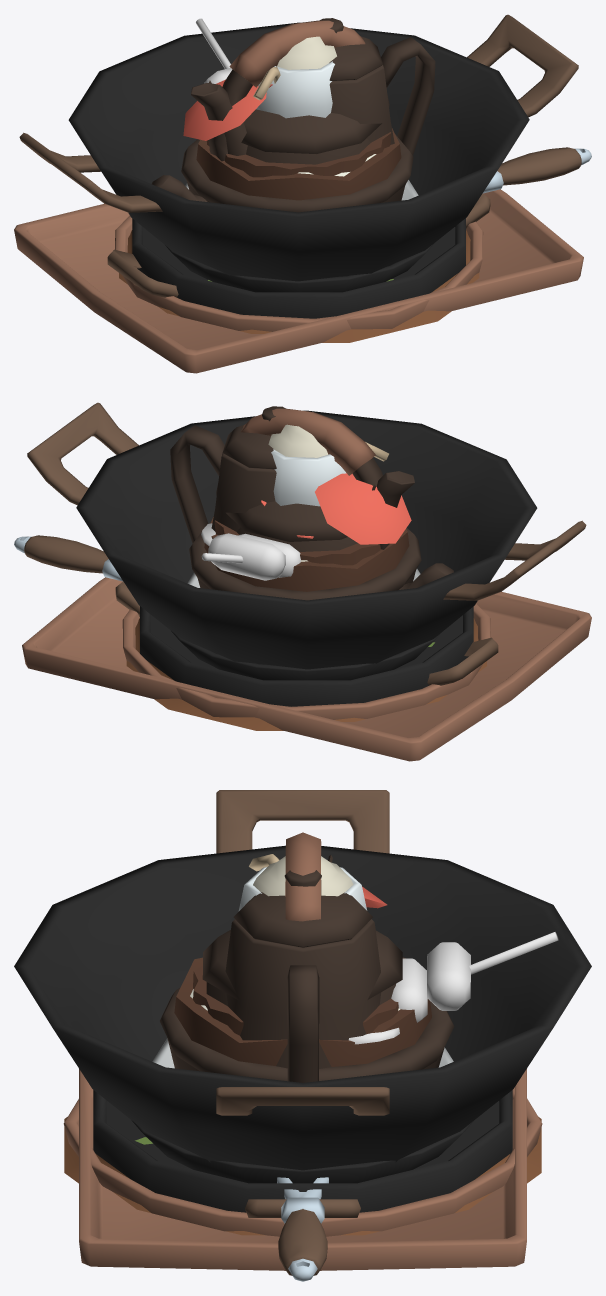
File: tableware.fbx
The picture shows the model from 3 angles, top to bottom: view 1: azimuth 30°, elevation 25°; view 2: azimuth 150°, elevation 25°; view 3: azimuth 270°, elevation 25°; orthographic projection. The views are drawn at different scales.
Parts seen in each view (by area): view 1: pot_1, tray_square_1, pot_2, teapot_1, teapot_2, pan, tray_round_1, coconut_cup, bowl_3, pokal_1, coconut_cup_lace, juice_umbrella (+2 smaller); view 2: pot_1, tray_square_1, pot_2, teapot_2, teapot_1, pan, tray_round_1, juice_umbrella, bowl_3, coconut_cup, soup_002, pokal_1 (+2 smaller); view 3: pot_1, tray_square_1, teapot_2, pot_2, tray_round_1, pan, coconut_cup, bowl_3, teapot_1, soup_002, coconut_cup_lace, milk_foam_middle (+1 smaller).
Boxes of the visible parts, box(x1,y1,x2,y2) form: pot_1: box(19, 14, 578, 281); tray_square_1: box(14, 189, 583, 373); pot_2: box(107, 193, 490, 342); teapot_1: box(152, 20, 389, 201); teapot_2: box(191, 18, 435, 155); pan: box(165, 147, 591, 292); tray_round_1: box(115, 215, 483, 331); coconut_cup: box(196, 128, 401, 200); bowl_3: box(181, 134, 413, 212); pokal_1: box(256, 61, 334, 118); coconut_cup_lace: box(206, 132, 391, 177); juice_umbrella: box(183, 79, 266, 140); pot_1: box(27, 402, 586, 669); tray_square_1: box(22, 577, 591, 761); pot_2: box(115, 581, 498, 730); teapot_2: box(170, 406, 414, 543); teapot_1: box(216, 408, 453, 589); pan: box(14, 535, 440, 680); tray_round_1: box(122, 603, 490, 719); juice_umbrella: box(315, 473, 411, 544); bowl_3: box(189, 523, 421, 600); coconut_cup: box(204, 517, 409, 591); soup_002: box(201, 523, 300, 580); pokal_1: box(271, 449, 346, 506); pot_1: box(14, 790, 591, 1170); tray_square_1: box(79, 1069, 526, 1270); teapot_2: box(225, 870, 381, 1082); pot_2: box(64, 1090, 541, 1235); tray_round_1: box(63, 1087, 542, 1236); pan: box(131, 1120, 474, 1281); coconut_cup: box(174, 957, 431, 1066); bowl_3: box(160, 987, 454, 1081); teapot_1: box(202, 832, 402, 1006); soup_002: box(348, 932, 558, 1044); coconut_cup_lace: box(193, 965, 398, 1035); milk_foam_middle: box(253, 856, 353, 896).
Size of the model in its own units: 50.11 by 28.8 by 67.69.
